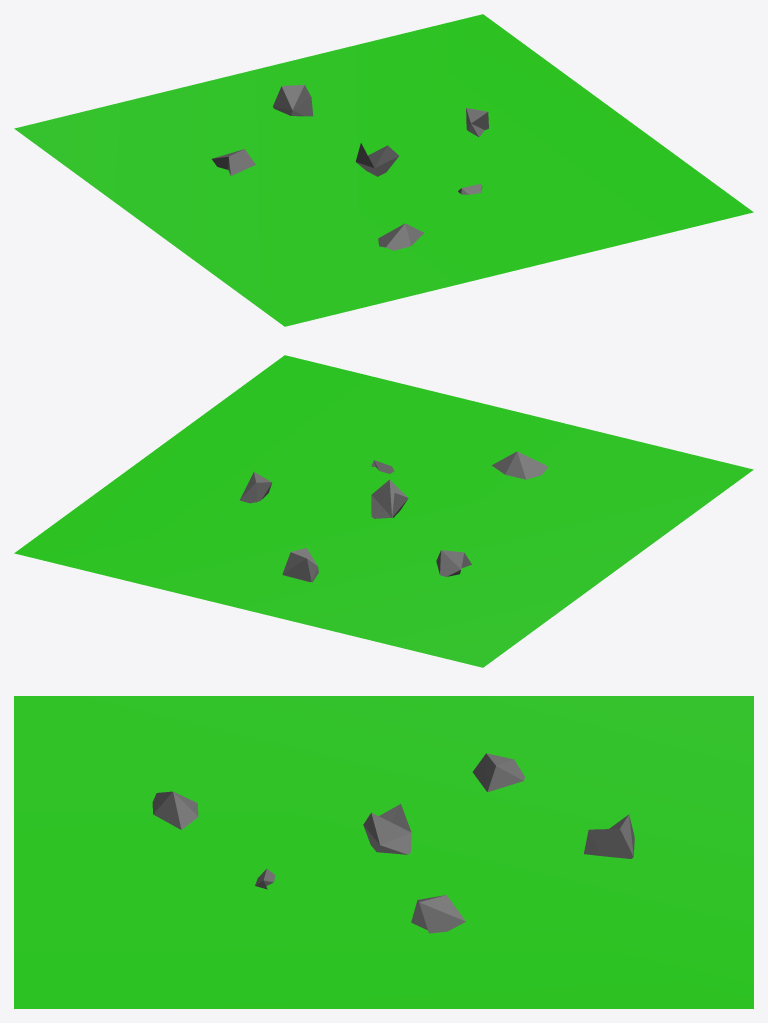
3 views of the same model, one above another, from view 1: azimuth 30°, elevation 25°; view 2: azimuth 150°, elevation 25°; view 3: azimuth 270°, elevation 25° (orthographic). The views are drawn at different scales.
Parts seen in each view (by area): view 1: plane; view 2: plane; view 3: plane.
Boxes of the visible parts, x1,y1,x2,y2 form: plane: (14, 14, 753, 326); plane: (14, 355, 753, 667); plane: (14, 696, 753, 1008).
Size of the model in its own units: 4 by 0.4317 by 4.
